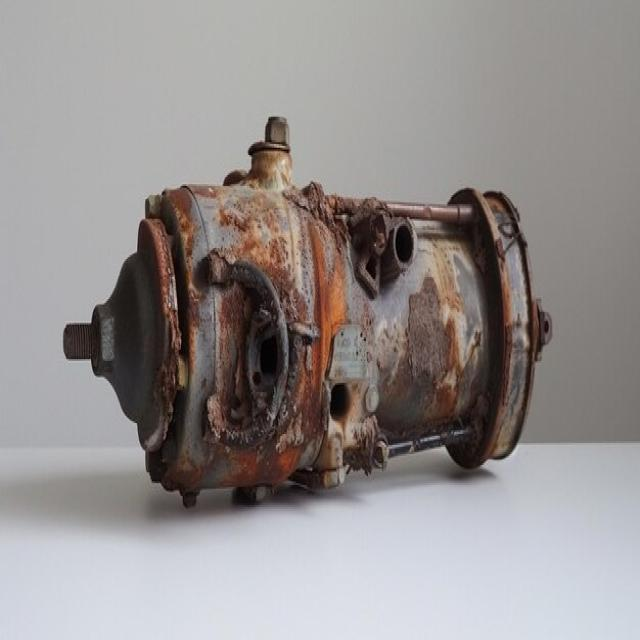compressor: (68, 104, 558, 498)
